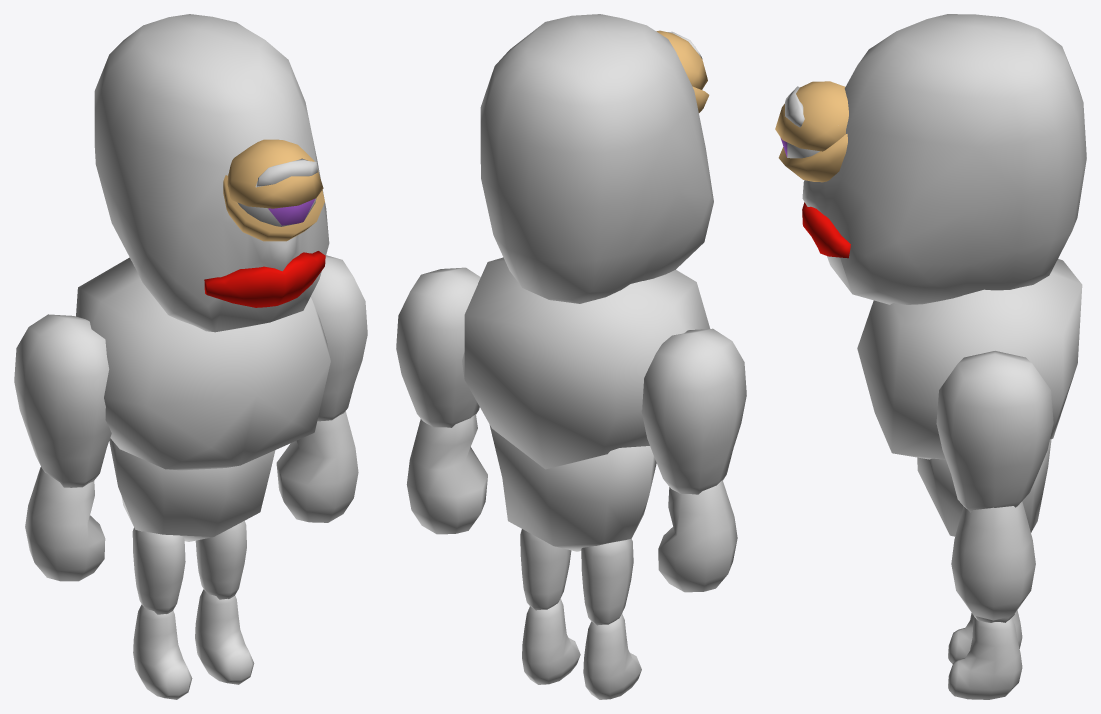
Rendered from characterTest.fbx.
The picture shows the model from 3 angles, left to right: view 1: azimuth 30°, elevation 25°; view 2: azimuth 150°, elevation 25°; view 3: azimuth 270°, elevation 25°; orthographic projection.
Visible parts, largest first — view 1: Head, Chest, RightShoulder, Hips, RightHand, LeftHand, LeftShoulder, EyeLidTop, Lips, LeftFoot, RightFoot, RightLeg (+4 smaller); view 2: Head, Chest, RightShoulder, Hips, LeftShoulder, LeftHand, RightHand, RightLeg, LeftFoot, RightFoot, LeftLeg, EyeLidTop; view 3: Head, Chest, LeftShoulder, LeftHand, LeftFoot, EyeLidTop, Hips, EyeLidBottom, Lips, RightFoot, EyeBrow.
Boxes of the visible parts, x1,y1,x2,y2 form: Head: (94, 14, 329, 332); Chest: (76, 257, 330, 470); RightShoulder: (14, 314, 111, 487); Hips: (109, 438, 275, 541); RightHand: (25, 467, 105, 581); LeftHand: (276, 411, 358, 522); LeftShoulder: (310, 255, 367, 421); EyeLidTop: (227, 139, 323, 208); Lips: (204, 251, 325, 307); LeftFoot: (195, 589, 254, 684); RightFoot: (133, 604, 192, 699); RightLeg: (132, 527, 185, 614); Head: (480, 14, 713, 303); Chest: (462, 257, 710, 469); RightShoulder: (641, 328, 746, 494); Hips: (489, 425, 656, 551); LeftShoulder: (396, 267, 480, 427); LeftHand: (406, 414, 487, 534); RightHand: (658, 480, 737, 592); RightLeg: (581, 538, 633, 625); LeftFoot: (522, 598, 580, 684); RightFoot: (583, 613, 641, 699); LeftLeg: (520, 529, 571, 610); EyeLidTop: (656, 30, 707, 89); Head: (802, 14, 1086, 304); Chest: (857, 259, 1082, 459); LeftShoulder: (936, 351, 1053, 512); LeftHand: (951, 501, 1035, 620); LeftFoot: (948, 617, 1022, 699); EyeLidTop: (775, 81, 848, 151); Hips: (917, 439, 1051, 536); EyeLidBottom: (778, 134, 847, 182); Lips: (802, 202, 850, 258); RightFoot: (948, 610, 1022, 663); EyeBrow: (785, 86, 804, 127).
Size of the model in its own units: 416 by 784 by 337.
